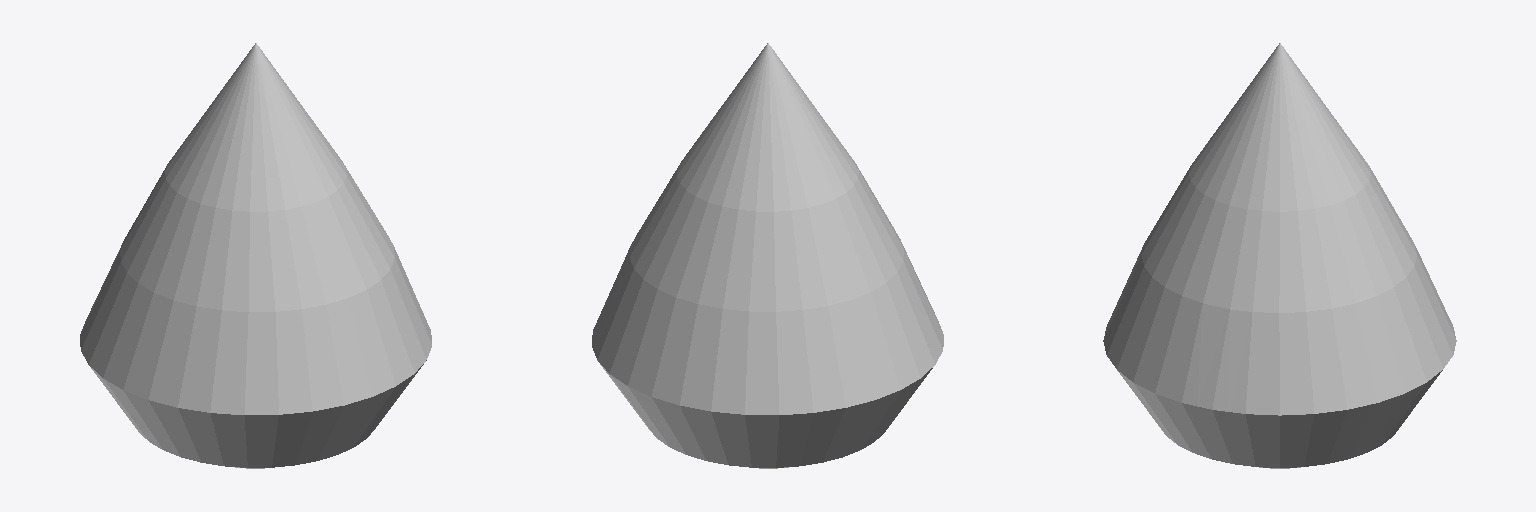
File: flame.obj
3 views of the same model, side by side, from view 1: azimuth 30°, elevation 25°; view 2: azimuth 150°, elevation 25°; view 3: azimuth 270°, elevation 25° (orthographic).
Parts seen in each view (by area): view 1: Cone; view 2: Cone; view 3: Cone.
Boxes of the visible parts, <box> form: Cone: <box>80,43,431,468</box>; Cone: <box>592,43,943,468</box>; Cone: <box>1103,43,1456,468</box>.
Bounding box in the file's own units: 2 × 2.67 × 2.